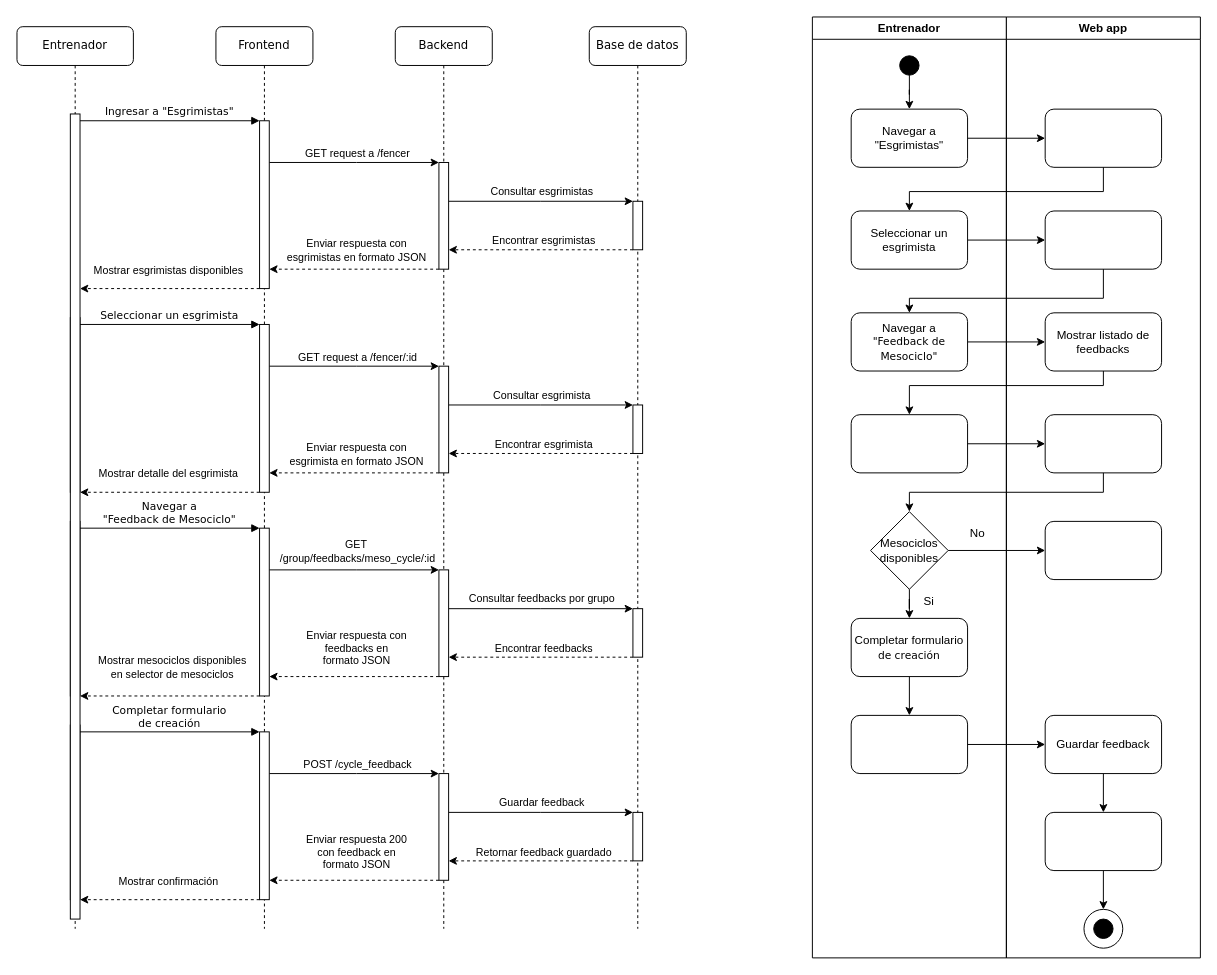
Image size: 1217x975. Some labels were removed from this diagram. The shapes that lost their labels are listed below. From the top down, each one's centre as x and y in pixels, then its label:
the point at 1103,137: Mostrar listado de esgrimistas
the point at 1103,239: Mostrar detalle de esgrimista
the point at 909,443: Click en "Crear Nuevo"
the point at 1103,443: Mostrar formulario de creación
the point at 1103,550: Mostrar mensaje "No existen mesociclos disponibles"
the point at 909,744: Click en "Confirmar"
the point at 1103,841: Mostrar mensaje de confirmación
